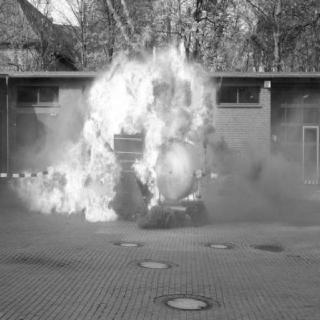Fire: (17, 36, 215, 222)
